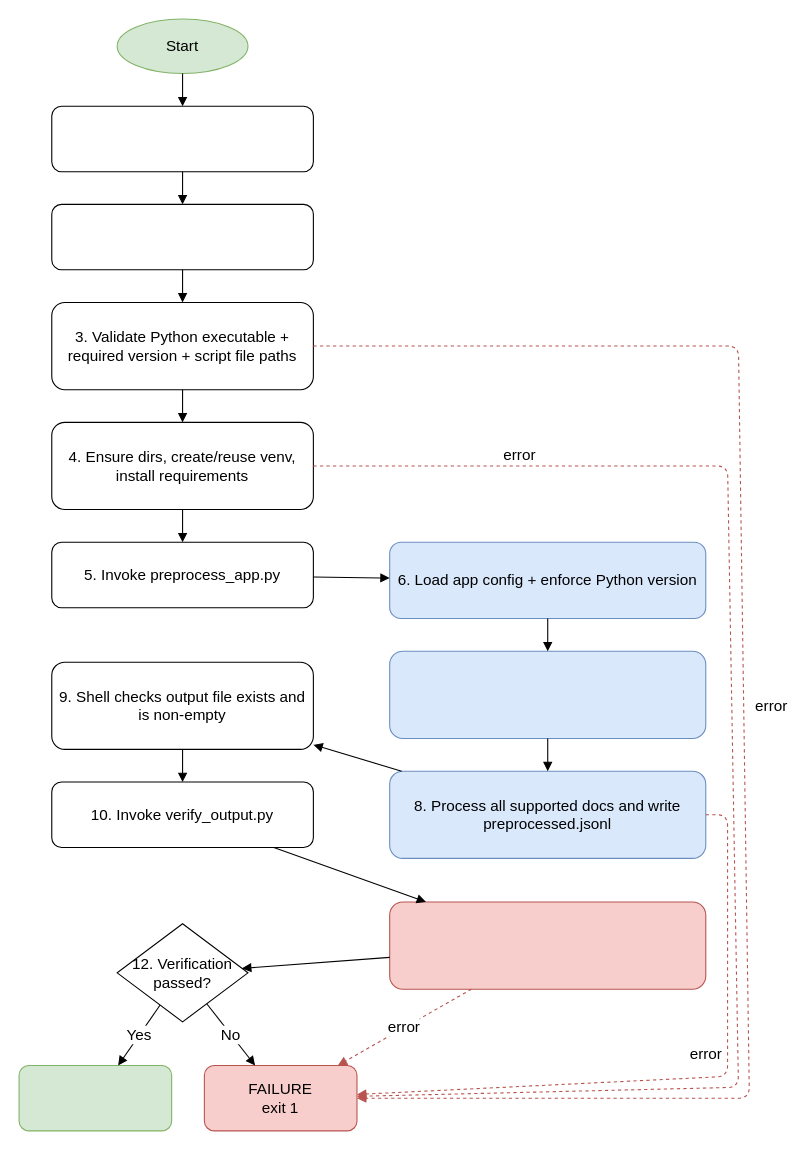
Some shapes in this 807 by 1150 pixel diagram are drawn without their labels. Each missing label, with the box of its shape:
1. run_local.sh starts: (51, 105, 313, 172)
11. Verify JSONL parseability, required fields, and source coverage: (389, 901, 706, 989)
2. Load .env and apply defaults: (51, 203, 313, 270)
7. Generate sample files (optional PPT conversion via LibreOffice): (389, 650, 706, 738)
SUCCESS exit 0: (18, 1064, 172, 1131)
